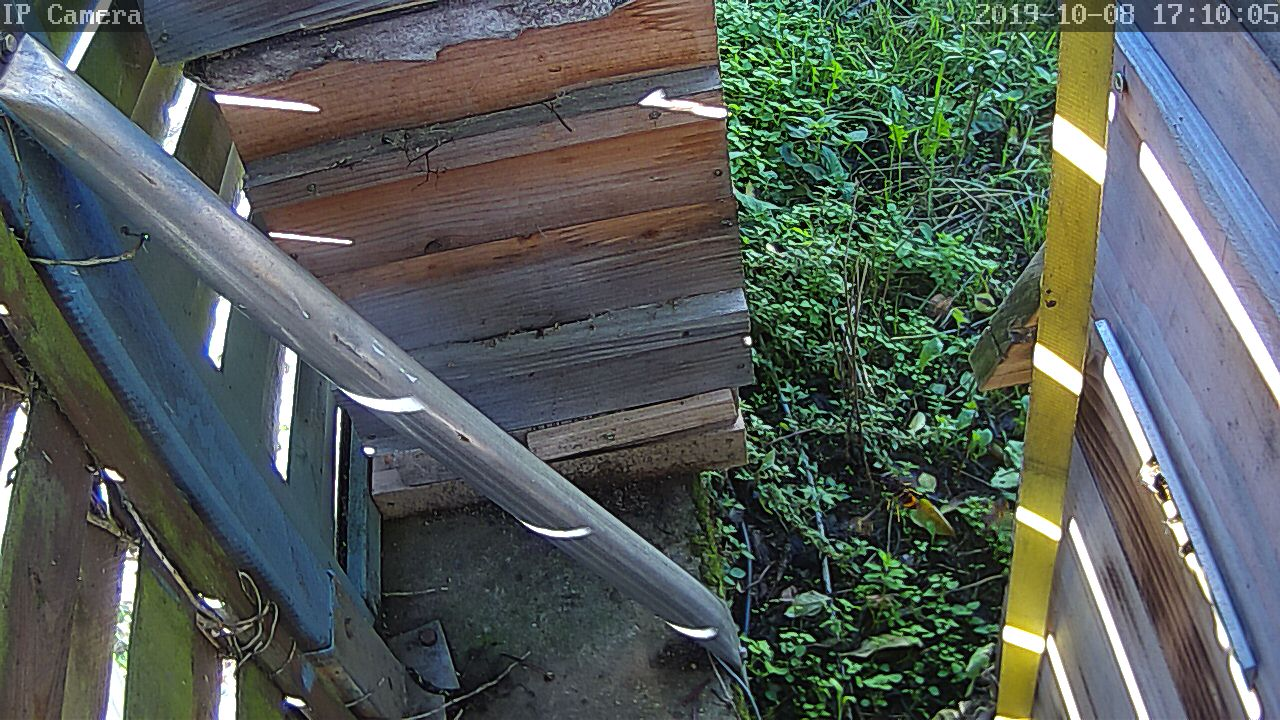bee: (1141, 463, 1171, 504), (1166, 527, 1195, 564)
hornet: (869, 467, 925, 523)
